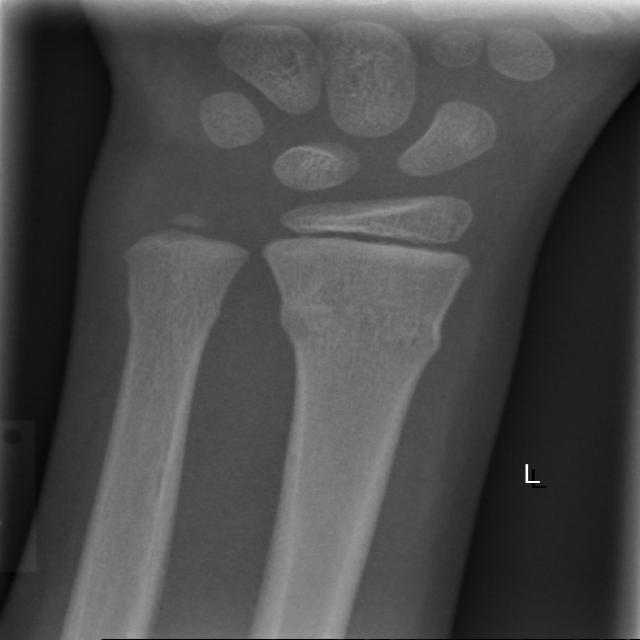radius fracture: (267, 264, 454, 404)
